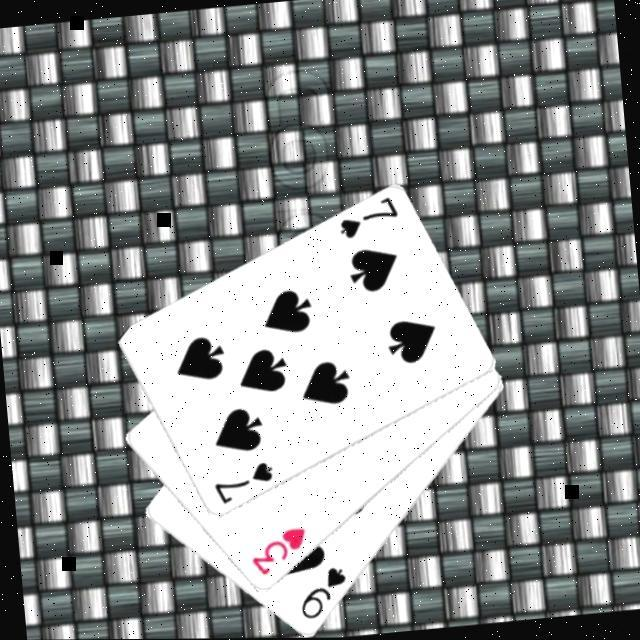3H: (247, 522, 313, 577)
7S: (210, 456, 280, 507), (335, 191, 405, 242)
9S: (296, 561, 355, 621)
